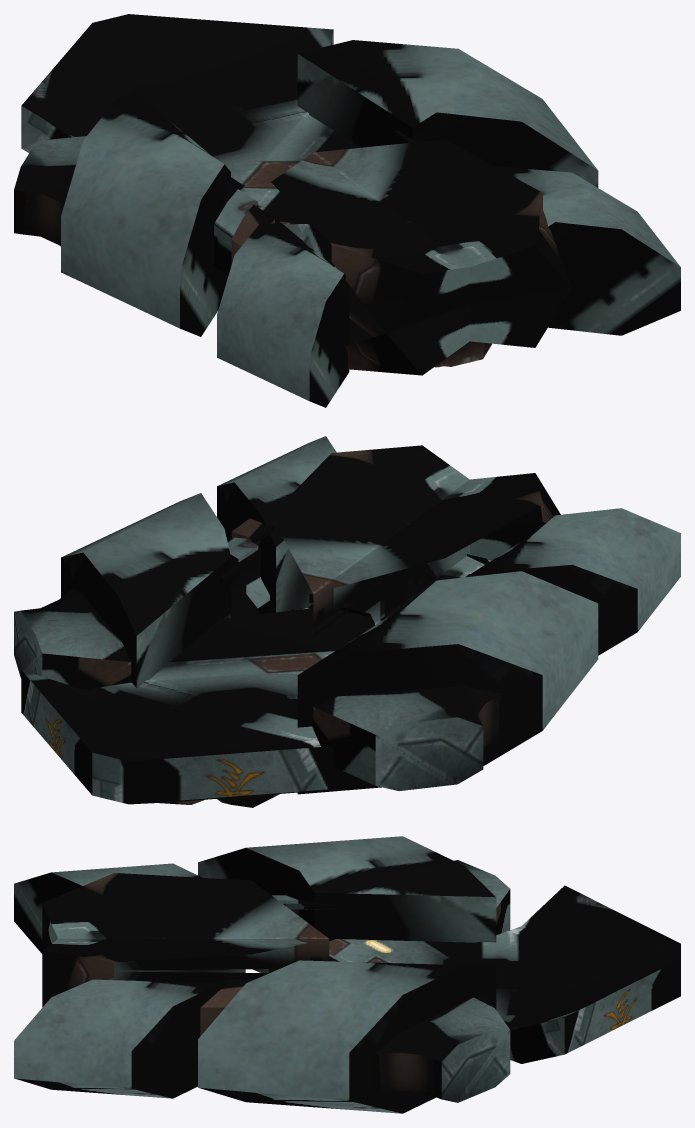
The model's file is Kuma Sukoshi.fbx.
3 views of the same model, one above another, from view 1: azimuth 30°, elevation 25°; view 2: azimuth 150°, elevation 25°; view 3: azimuth 270°, elevation 25° (orthographic). The views are drawn at different scales.
Parts seen in each view (by area): view 1: Kuma Sukoshi; view 2: Kuma Sukoshi; view 3: Kuma Sukoshi.
Part boxes in pixels (x1,y1,x2,y2): Kuma Sukoshi: (14, 14, 680, 407); Kuma Sukoshi: (14, 436, 680, 807); Kuma Sukoshi: (14, 836, 680, 1113).
Bounding box in the file's own units: 99.6 × 39.19 × 138.
1 material, 1 textured.
